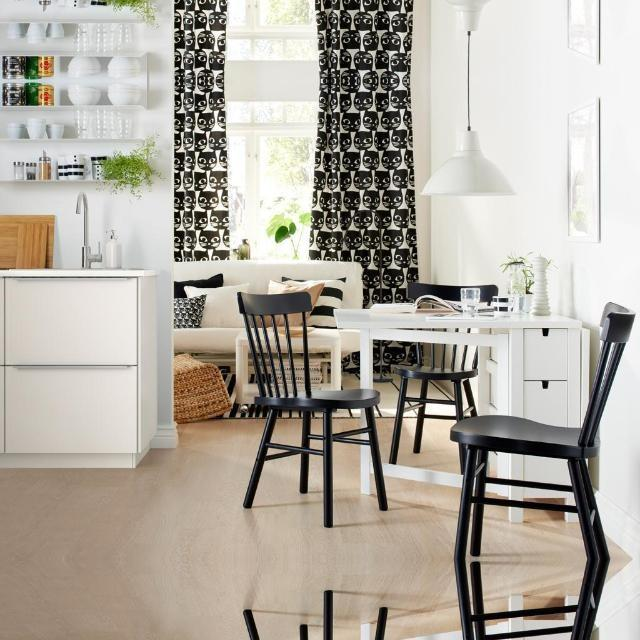obstacle: (236, 292, 640, 558), (0, 260, 164, 486), (236, 558, 640, 640), (0, 631, 164, 640)
